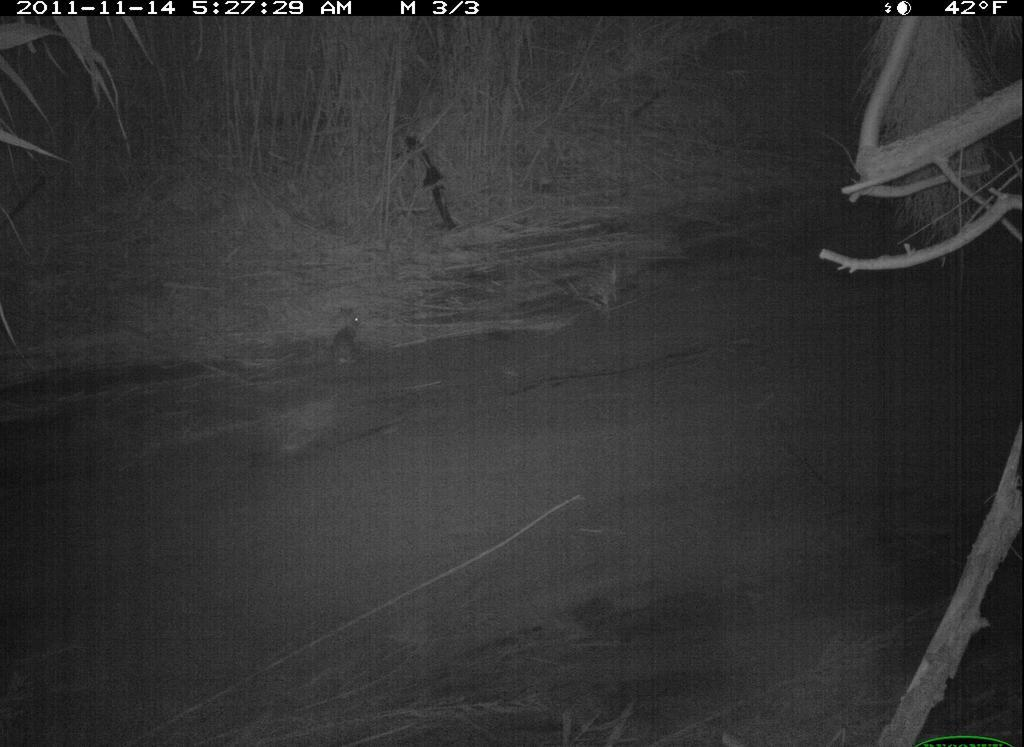rabbit: (323, 297, 370, 374)
